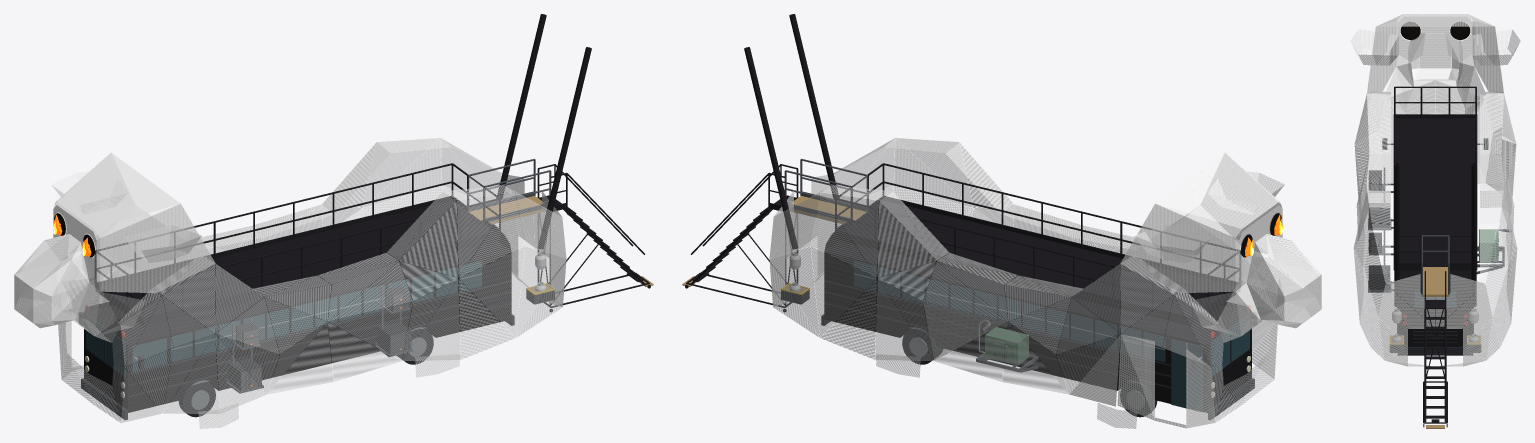
Rendered from baaabs-panelized-v22.glb.
3 views of the same model, side by side, from view 1: azimuth 30°, elevation 25°; view 2: azimuth 150°, elevation 25°; view 3: azimuth 270°, elevation 25° (orthographic). The views are drawn at different scales.
Visible parts, largest first — view 1: Bus__Body_96in_wide, H-D-014 | Driver head side upper, H-D-001 | Driver continuous side, B-D-054 | Driver Skirt 07 b, B-D-050 | Driver Skirt 05 b, B-D-051 | Driver Skirt 06 a, B-D-043 | Driver Skirt 02 a, B-D-038 | Driver Flank 07 b, B-D-036 | Driver Flank 06 b, B-D-053 | Driver Skirt 07 a, B-D-049 | Driver Skirt 05 a, B-D-047 | Driver Skirt 04 a (+74 smaller); view 2: Bus__Body_96in_wide, H-P-014 | Passenger head side upper, H-P-001 | Passenger continuous side, B-P-062 | Passenger Skirt 07 b, B-P-058 | Passenger Skirt 05 b, B-P-059 | Passenger Skirt 06 a, B-P-046 | Passenger Flank 07 b, B-P-044 | Passenger Flank 06 b, B-P-061 | Passenger Skirt 07 a, B-P-057 | Passenger Skirt 05 a, B-P-055 | Passenger Skirt 04 a, B-D-038 | Driver Flank 07 b (+77 smaller); view 3: Bus__Body_96in_wide, Bus__Rear_engine_hatch, Dancefloor_section_01, Dancefloor_section_02, Dancefloor_section_03, Dancefloor_section_04, B-D-059 | Driver Rear surround 06 a, B-P-015 | Passenger Rear surround 05 a, Dancefloor_section_06, Dancefloor_section_09, Dancefloor_section_05, Dancefloor_section_07 (+120 smaller).
Boxes of the visible parts, left/top/right/bottom form: Bus__Body_96in_wide: left=84, top=240, right=511, bottom=412; H-D-014 | Driver head side upper: left=100, top=203, right=207, bottom=259; H-D-001 | Driver continuous side: left=100, top=249, right=215, bottom=293; B-D-054 | Driver Skirt 07 b: left=459, top=246, right=524, bottom=336; B-D-050 | Driver Skirt 05 b: left=329, top=302, right=412, bottom=360; B-D-051 | Driver Skirt 06 a: left=403, top=280, right=460, bottom=360; B-D-043 | Driver Skirt 02 a: left=163, top=335, right=219, bottom=413; B-D-038 | Driver Flank 07 b: left=457, top=193, right=514, bottom=276; B-D-036 | Driver Flank 06 b: left=399, top=201, right=458, bottom=277; B-D-053 | Driver Skirt 07 a: left=458, top=279, right=515, bottom=359; B-D-049 | Driver Skirt 05 a: left=328, top=322, right=400, bottom=381; B-D-047 | Driver Skirt 04 a: left=268, top=322, right=333, bottom=393; Bus__Body_96in_wide: left=824, top=240, right=1251, bottom=412; H-P-014 | Passenger head side upper: left=1128, top=203, right=1235, bottom=259; H-P-001 | Passenger continuous side: left=1120, top=249, right=1235, bottom=293; B-P-062 | Passenger Skirt 07 b: left=811, top=246, right=876, bottom=336; B-P-058 | Passenger Skirt 05 b: left=923, top=302, right=1007, bottom=360; B-P-059 | Passenger Skirt 06 a: left=875, top=280, right=932, bottom=360; B-P-046 | Passenger Flank 07 b: left=821, top=193, right=878, bottom=276; B-P-044 | Passenger Flank 06 b: left=877, top=201, right=936, bottom=277; B-P-061 | Passenger Skirt 07 a: left=820, top=279, right=877, bottom=359; B-P-057 | Passenger Skirt 05 a: left=935, top=322, right=1007, bottom=381; B-P-055 | Passenger Skirt 04 a: left=1002, top=322, right=1067, bottom=393; B-D-038 | Driver Flank 07 b: left=896, top=138, right=972, bottom=206; Bus__Body_96in_wide: left=1397, top=270, right=1473, bottom=346; Bus__Rear_engine_hatch: left=1408, top=321, right=1462, bottom=346; Dancefloor_section_01: left=1393, top=118, right=1477, bottom=130; Dancefloor_section_02: left=1393, top=130, right=1477, bottom=142; Dancefloor_section_03: left=1393, top=143, right=1477, bottom=155; Dancefloor_section_04: left=1393, top=155, right=1477, bottom=167; B-D-059 | Driver Rear surround 06 a: left=1386, top=274, right=1435, bottom=326; B-P-015 | Passenger Rear surround 05 a: left=1435, top=274, right=1484, bottom=326; Dancefloor_section_06: left=1393, top=180, right=1477, bottom=192; Dancefloor_section_09: left=1393, top=217, right=1477, bottom=229; Dancefloor_section_05: left=1393, top=167, right=1477, bottom=179; Dancefloor_section_07: left=1393, top=192, right=1477, bottom=204.
Bounding box in the file's own units: 19.95 × 8.42 × 5.52.
232 materials, 206 textured.
